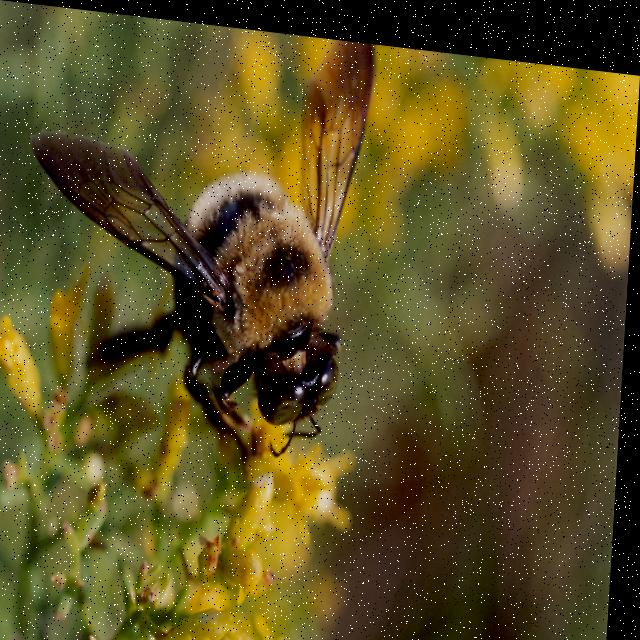Xylocopa: (11, 3, 409, 459)
